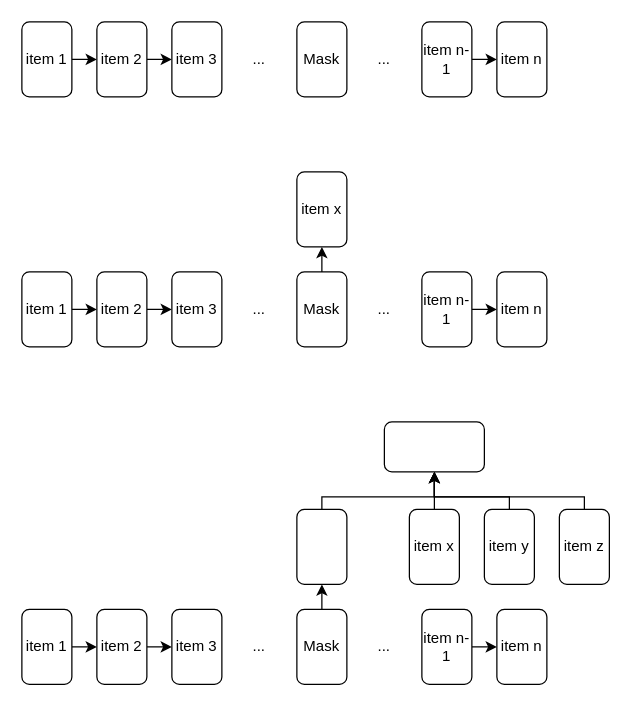
The diagram is 631 pixels wide and 706 high, and some of its shapes have lost their labels. Each missing label, with the centre of its shape:
"emb" belongs at point (321, 546).
"predictor" belongs at point (433, 446).
